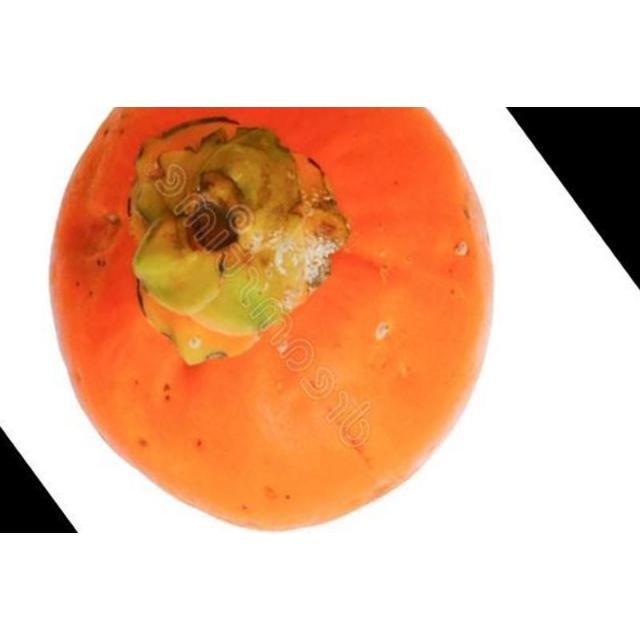good: (47, 107, 499, 533)
